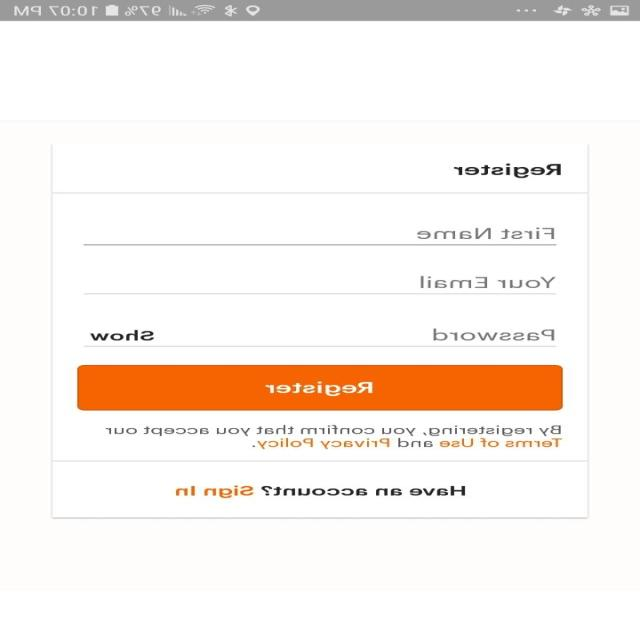EditText: (84, 275, 556, 295), (83, 227, 558, 246), (83, 328, 558, 347)
Text: (106, 425, 564, 448), (176, 484, 467, 498), (419, 276, 556, 289), (417, 227, 555, 239), (454, 163, 562, 178), (432, 328, 556, 341), (90, 330, 154, 340)
TextButton: (78, 365, 564, 411)
